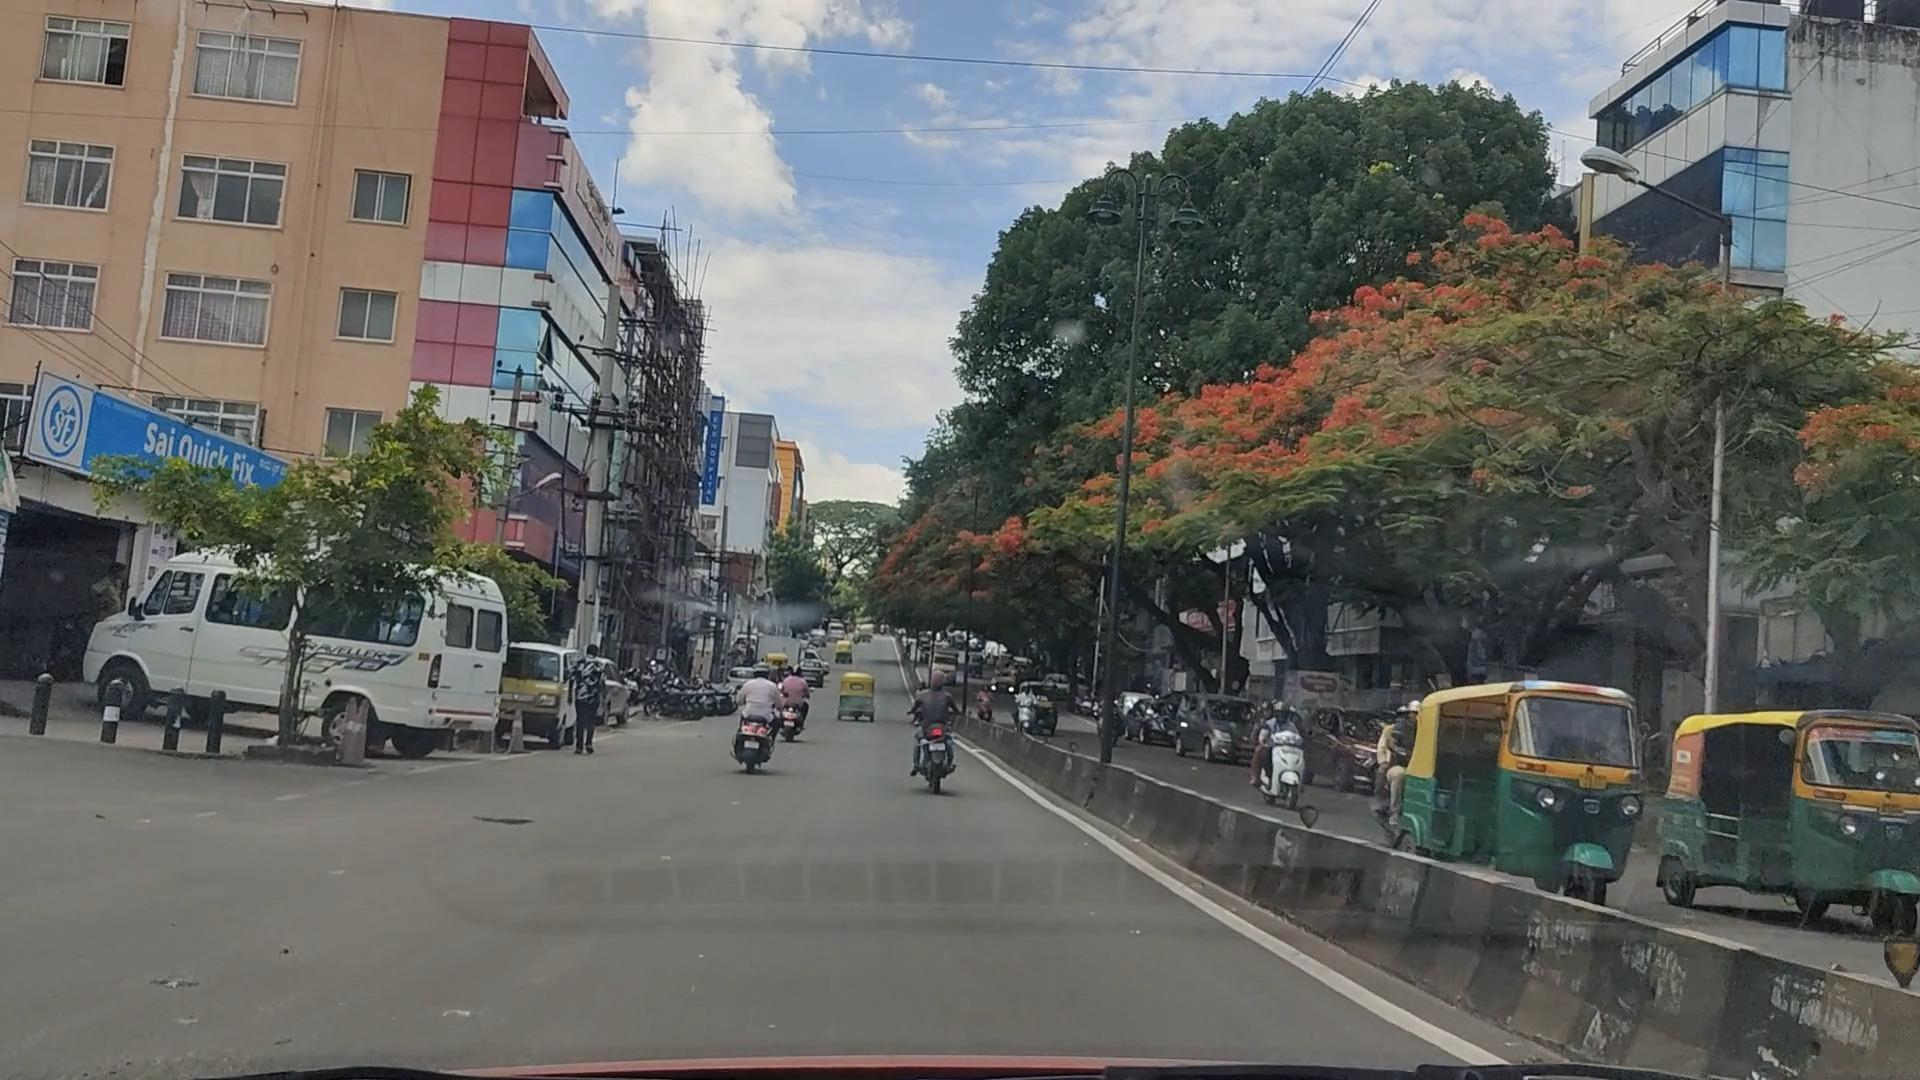LMV: (731, 641, 790, 766), (913, 670, 963, 798)
RoadDamages: (136, 956, 225, 1014)
